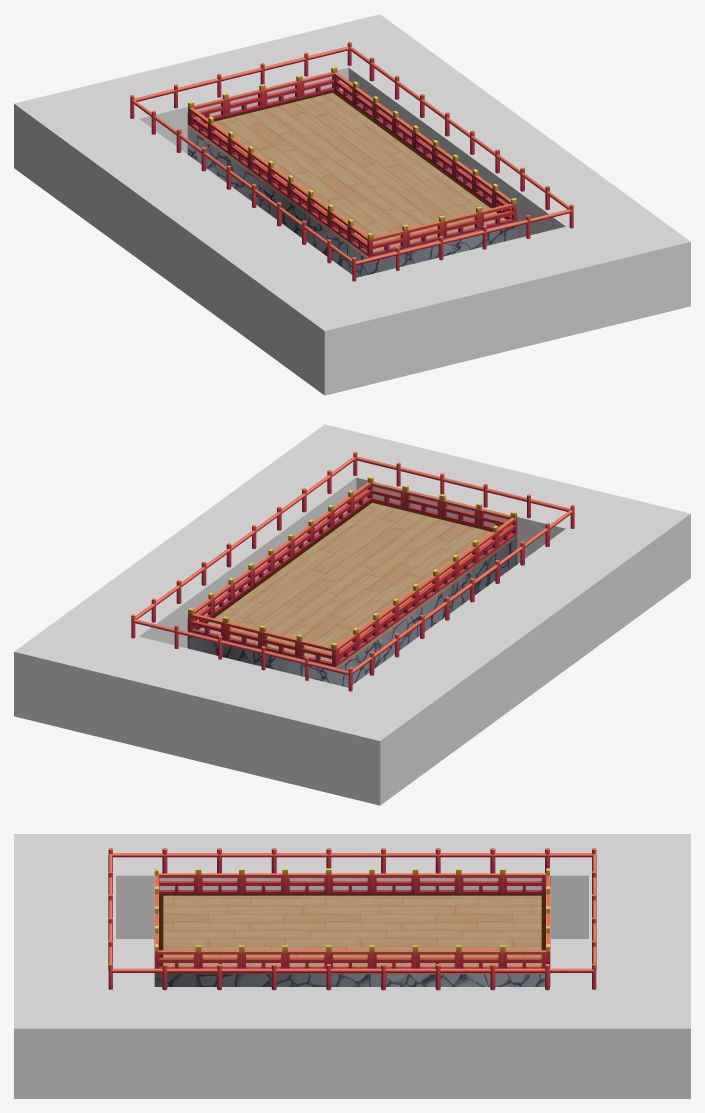
The model's file is Duel_Stage 27.fbx.
3 renders of one model, top to bottom at view 1: azimuth 30°, elevation 25°; view 2: azimuth 150°, elevation 25°; view 3: azimuth 270°, elevation 25°, orthographic. The views are drawn at different scales.
Parts seen in each view (by area): view 1: Plane_1.005, Plane_1.004, Cube.052, Cube.048, Plane_1.006; view 2: Plane_1.005, Plane_1.004, Cube.052, Cube.048, Plane_1.006; view 3: Plane_1.005, Plane_1.004, Cube.052, Cube.048, Plane_1.006.
Boxes of the visible parts, left/top/right/bottom form: Plane_1.005: left=14, top=14, right=690, bottom=395; Plane_1.004: left=187, top=92, right=517, bottom=277; Cube.052: left=187, top=66, right=517, bottom=256; Cube.048: left=130, top=41, right=573, bottom=281; Plane_1.006: left=195, top=90, right=509, bottom=249; Plane_1.005: left=14, top=424, right=690, bottom=805; Plane_1.004: left=187, top=502, right=517, bottom=687; Cube.052: left=187, top=476, right=517, bottom=666; Cube.048: left=131, top=451, right=574, bottom=691; Plane_1.006: left=195, top=500, right=509, bottom=658; Plane_1.005: left=14, top=834, right=690, bottom=1098; Plane_1.004: left=154, top=895, right=550, bottom=986; Cube.052: left=154, top=868, right=550, bottom=968; Cube.048: left=108, top=848, right=596, bottom=990; Plane_1.006: left=159, top=893, right=545, bottom=966.
Bounding box in the file's own units: 5936 × 1346 × 8728.
